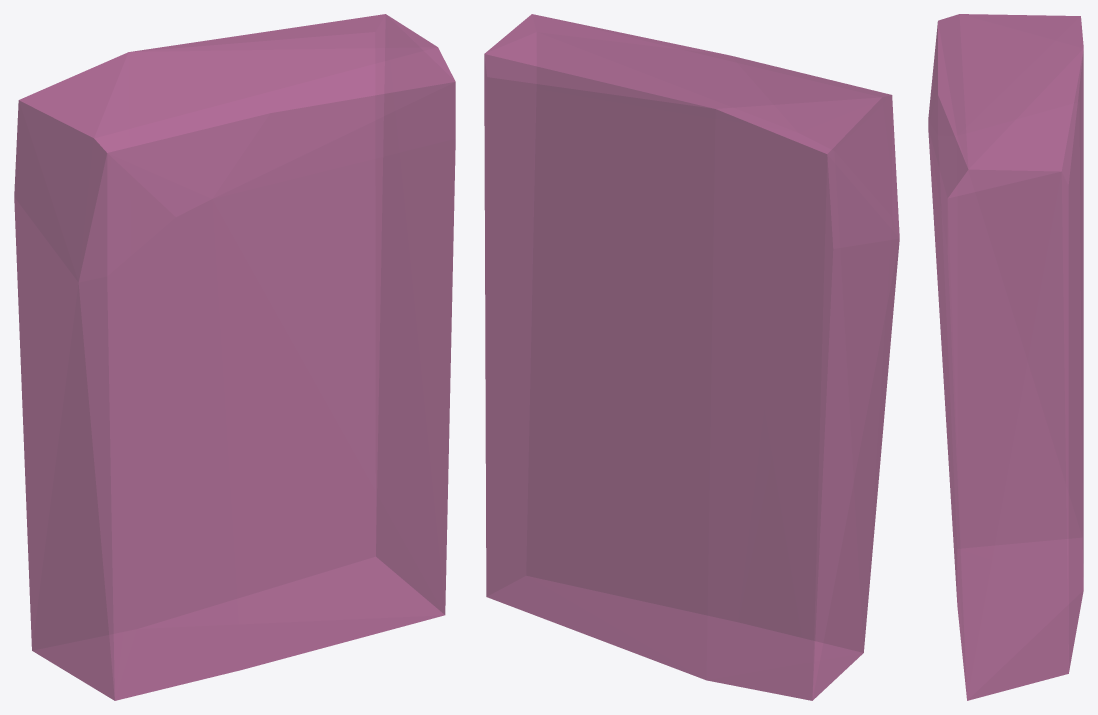
The picture shows the model from 3 angles, left to right: view 1: azimuth 30°, elevation 25°; view 2: azimuth 150°, elevation 25°; view 3: azimuth 270°, elevation 25°; orthographic projection. The views are drawn at different scales.
Visible parts, largest first — view 1: Shape_IndexedFaceSet.007_Shape_IndexedFaceSet.12848; view 2: Shape_IndexedFaceSet.007_Shape_IndexedFaceSet.12848; view 3: Shape_IndexedFaceSet.007_Shape_IndexedFaceSet.12848.
Boxes of the visible parts, x1=… form: Shape_IndexedFaceSet.007_Shape_IndexedFaceSet.12848: x1=14, y1=14, x2=455, y2=700; Shape_IndexedFaceSet.007_Shape_IndexedFaceSet.12848: x1=484, y1=14, x2=899, y2=700; Shape_IndexedFaceSet.007_Shape_IndexedFaceSet.12848: x1=928, y1=14, x2=1083, y2=700.
Bounding box in the file's own units: 0.2667 × 0.3968 × 0.1041.
